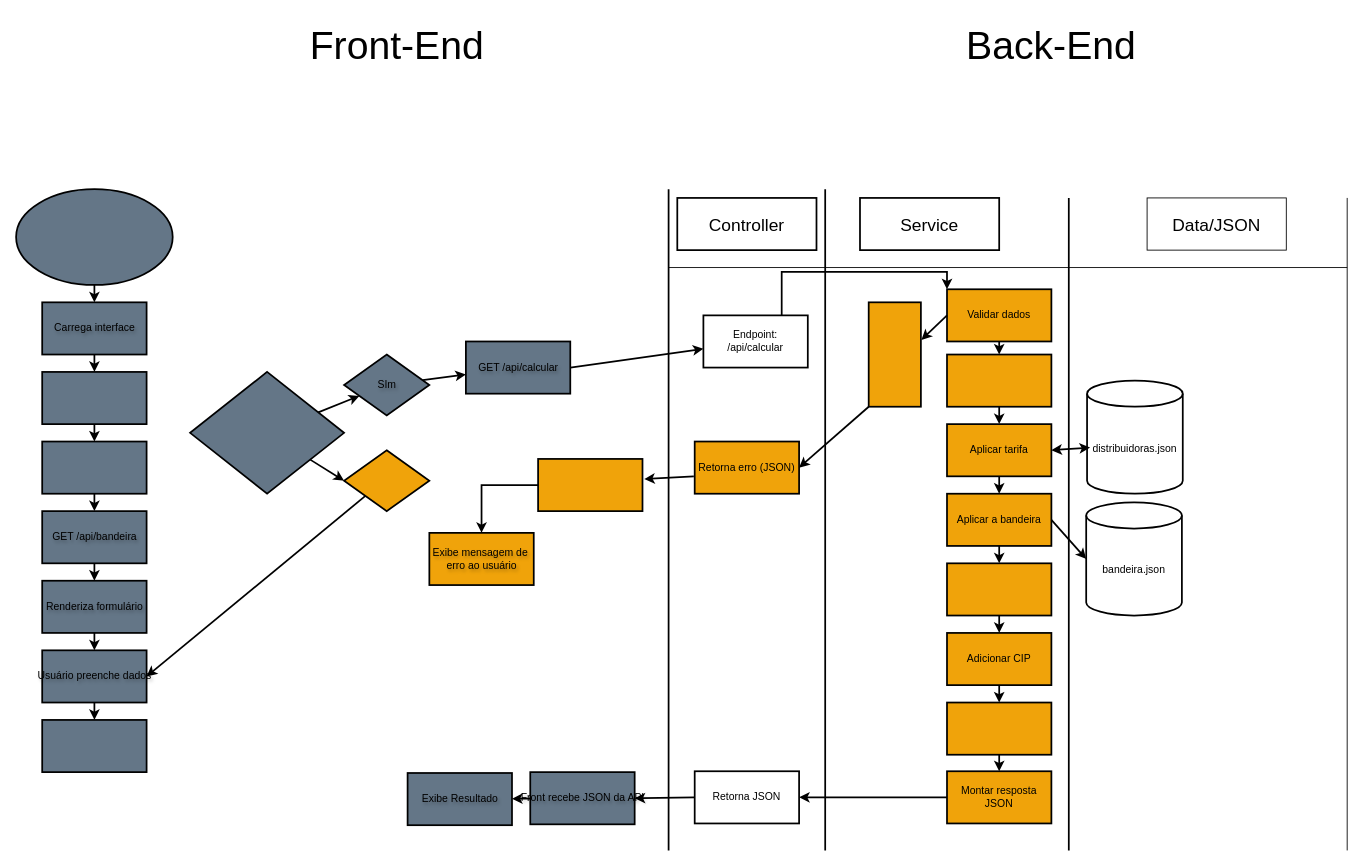
The diagram is 1363 pixels wide and 867 high, and some of its shapes have lost their labels. Each missing label, with the centre of its shape:
Busca dados iniciais: (x=94, y=398)
Calcular consumo: (x=999, y=380)
Calcular ICMS: (x=999, y=589)
Calcular total: (x=999, y=728)
Dados Invalidos: (x=894, y=354)
Dados válidos?: (x=267, y=432)
Front recebe erro: (x=590, y=485)
GET /api/distribuidoras: (x=94, y=467)
Não: (x=386, y=480)
Usuário acessa o sistema: (x=94, y=236)
Validação no front: (x=94, y=746)
